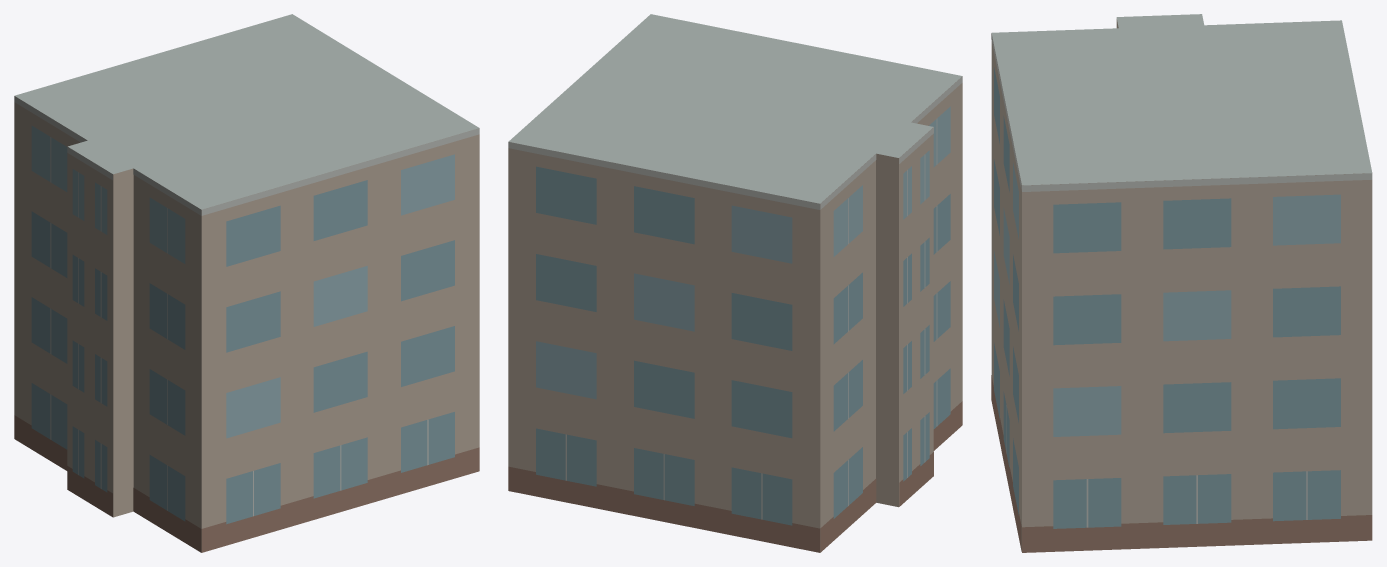
The model's file is survey-upis-32995728.glb.
3 renders of one model, left to right at view 1: azimuth 30°, elevation 25°; view 2: azimuth 150°, elevation 25°; view 3: azimuth 270°, elevation 25°, orthographic. The views are drawn at different scales.
Parts seen in each view (by area): view 1: survey-upis-32995728.tmp; view 2: survey-upis-32995728.tmp; view 3: survey-upis-32995728.tmp.
Part boxes in pixels (x1,y1,x2,y2): survey-upis-32995728.tmp: [14, 14, 479, 552]; survey-upis-32995728.tmp: [508, 14, 962, 552]; survey-upis-32995728.tmp: [991, 14, 1372, 552].
Size of the model in its own units: 13.42 by 13.4 by 12.6.
